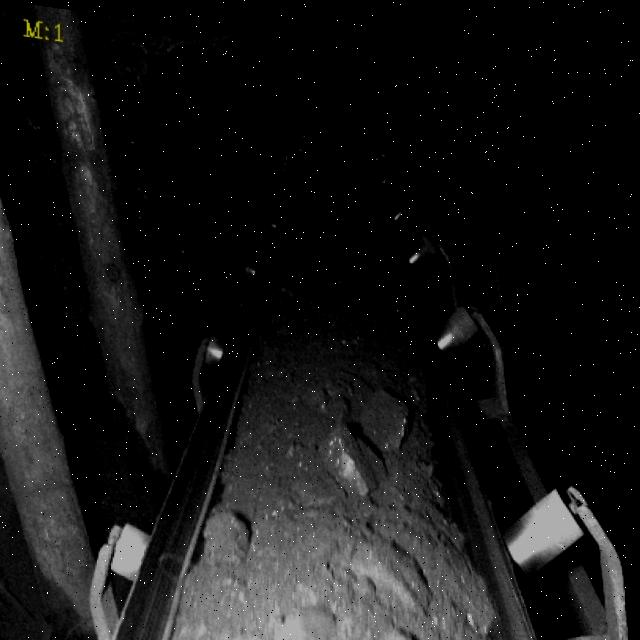large_sized_coal: (353, 522, 431, 602), (324, 419, 387, 488), (362, 376, 411, 443), (202, 500, 252, 565), (277, 592, 336, 640), (292, 460, 348, 503), (384, 620, 456, 640)
